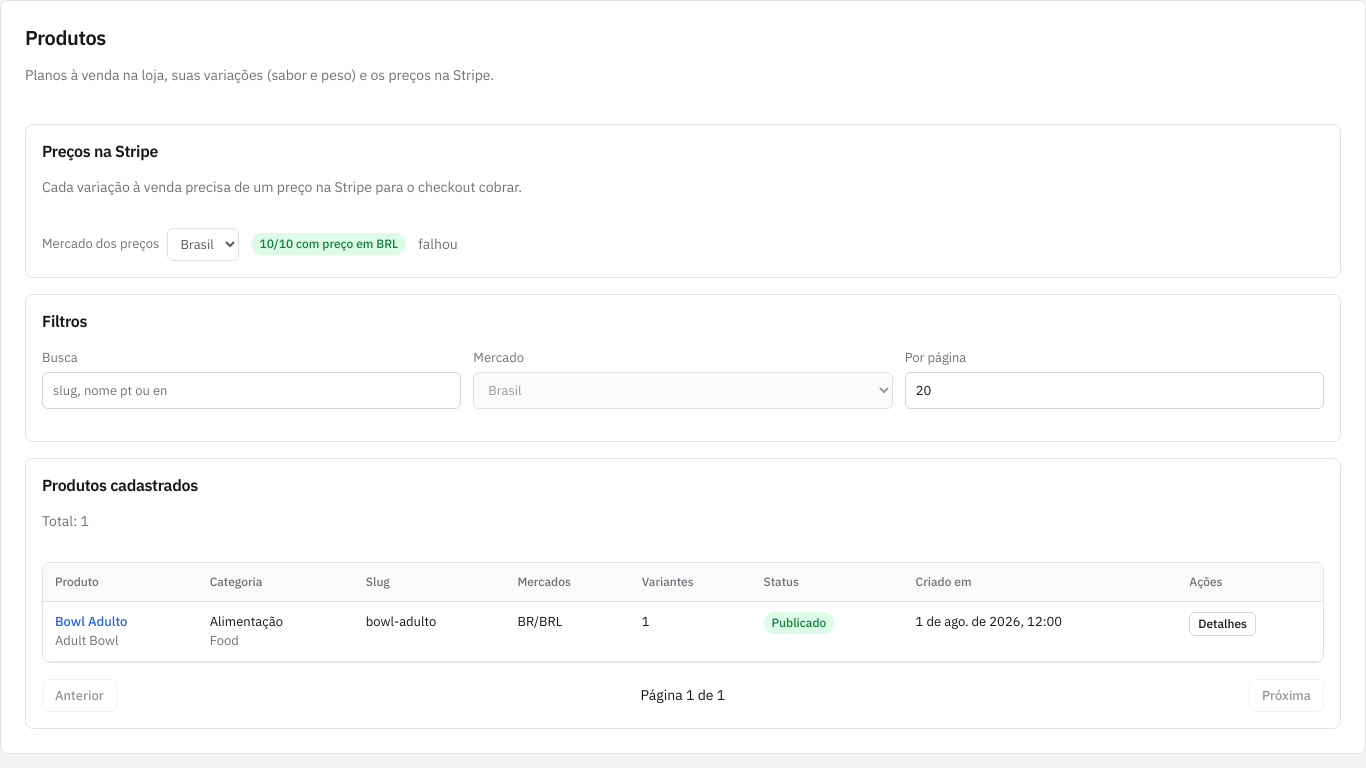
Test: ProductsPage › clears search with the side X and keeps the locked market
Check: the link "Bowl Adulto" is shown, box left=55, top=613, right=127, bottom=630
Type "bowl" into the field with placeholder "slug, nome pt ou en".
click(252, 390); type("bowl")  # box left=42, top=372, right=461, bottom=409
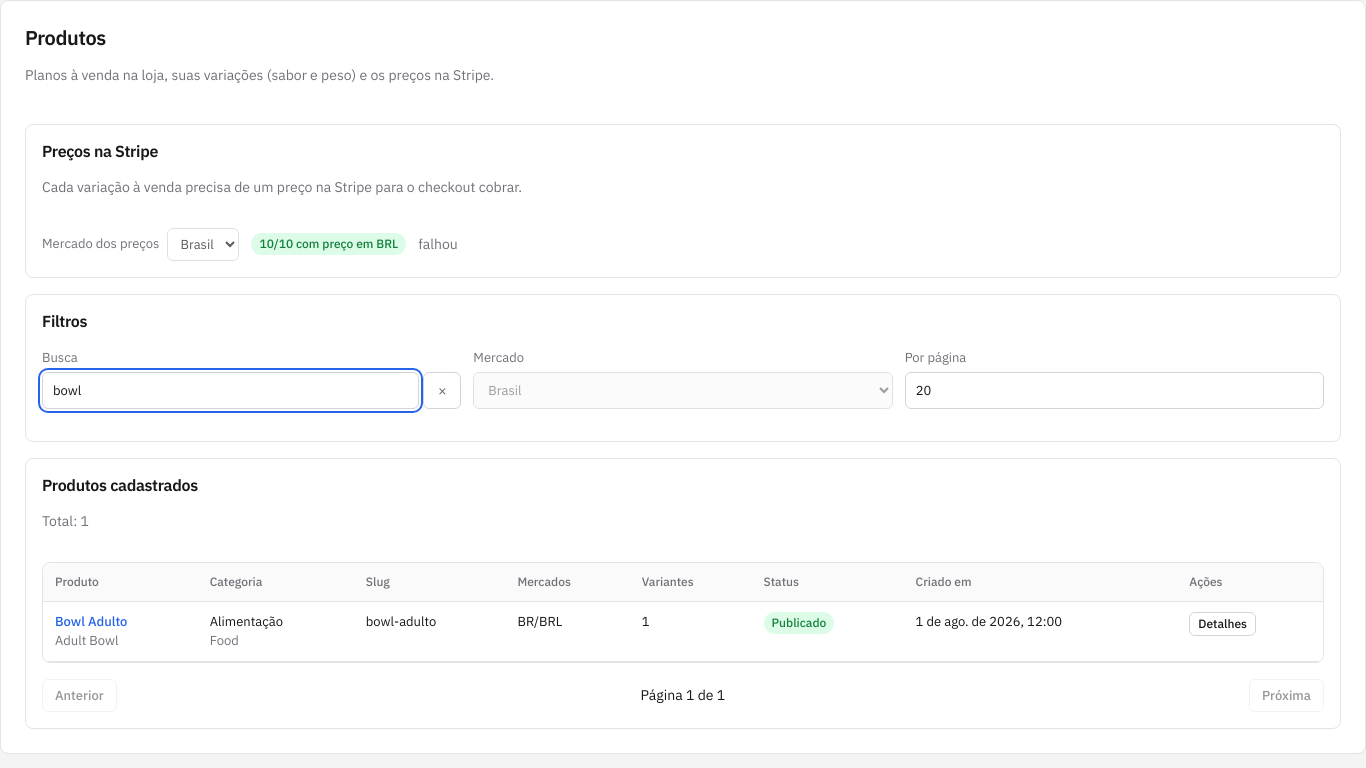
Click the button named "Limpar busca".
click(442, 390)  # box left=423, top=372, right=461, bottom=409
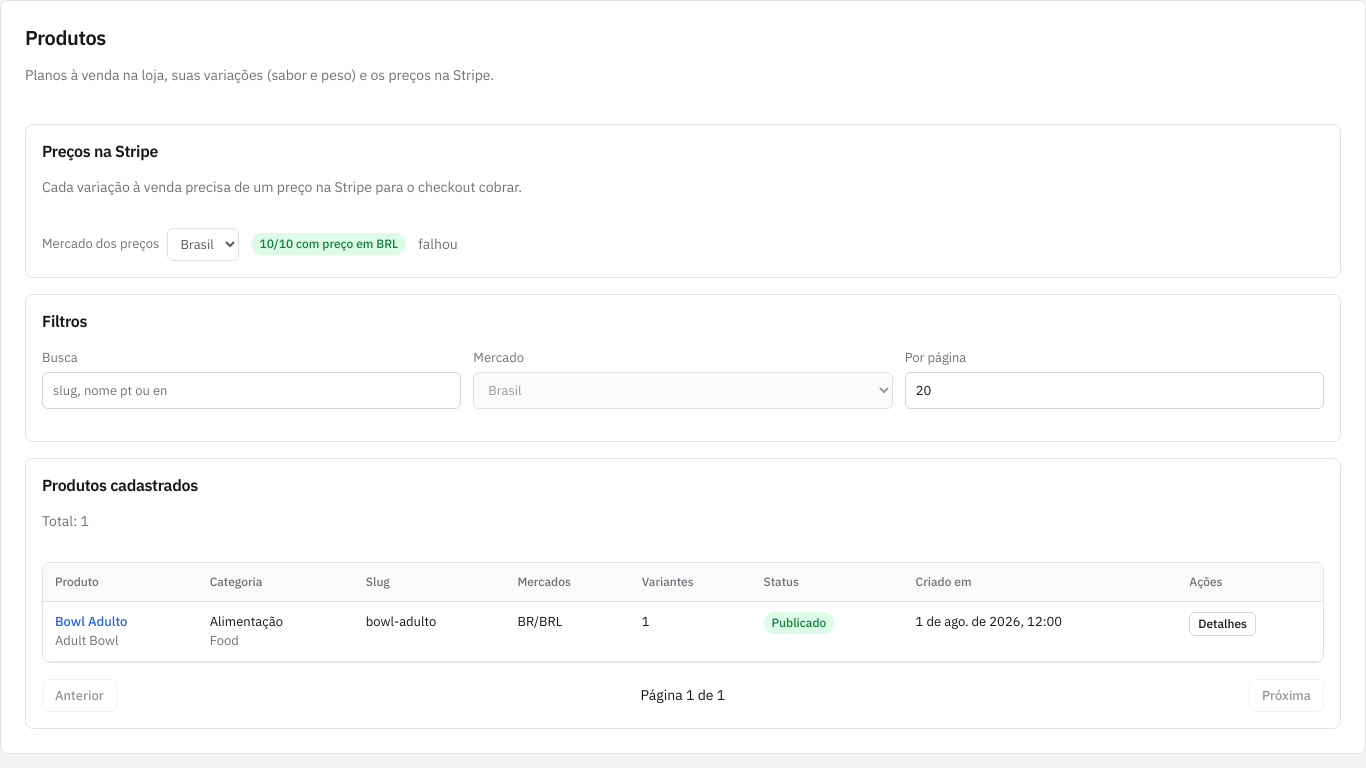
Check: the dropdown labelled "Mercado" shows "Brasil", box left=473, top=372, right=893, bottom=409
Check: the field with placeholder "slug, nome pt ou en" is empty, box left=42, top=372, right=461, bottom=409
